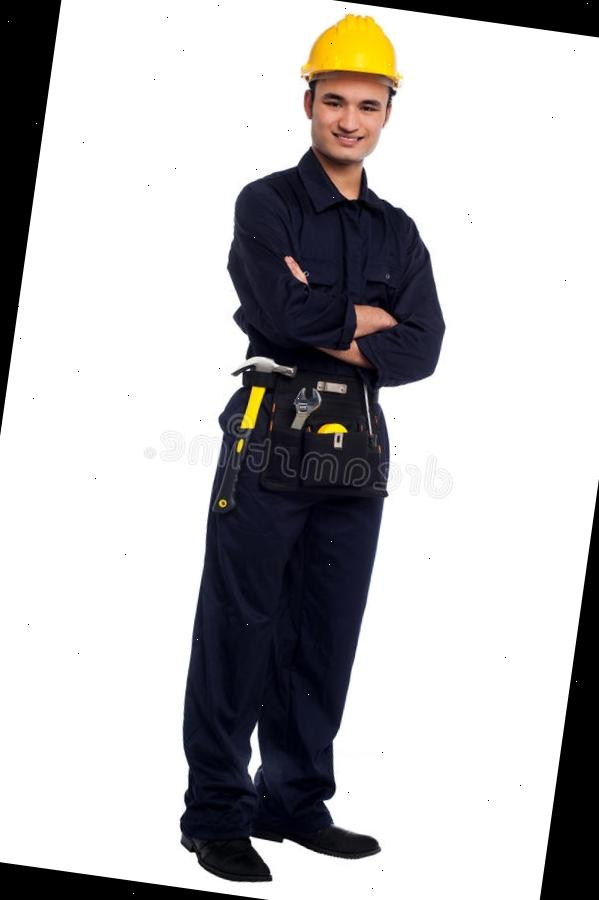helmet: (298, 3, 412, 90)
wear: (218, 174, 434, 407)
